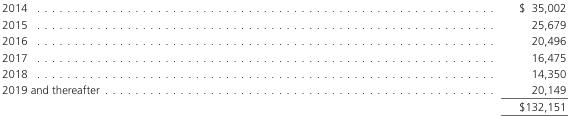table: (1, 1, 565, 113)
table column: (1, 1, 308, 113), (308, 1, 565, 113)
table row: (1, 15, 565, 32), (1, 48, 565, 65), (1, 81, 565, 98), (1, 32, 565, 48), (1, 65, 565, 81), (1, 98, 565, 113), (1, 1, 565, 15)
